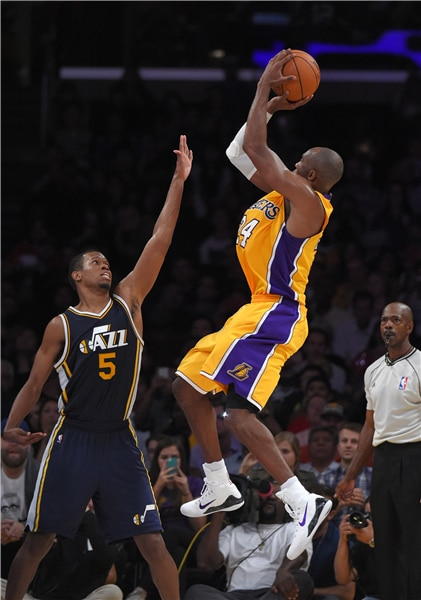Basketball: (274, 46, 322, 103)
